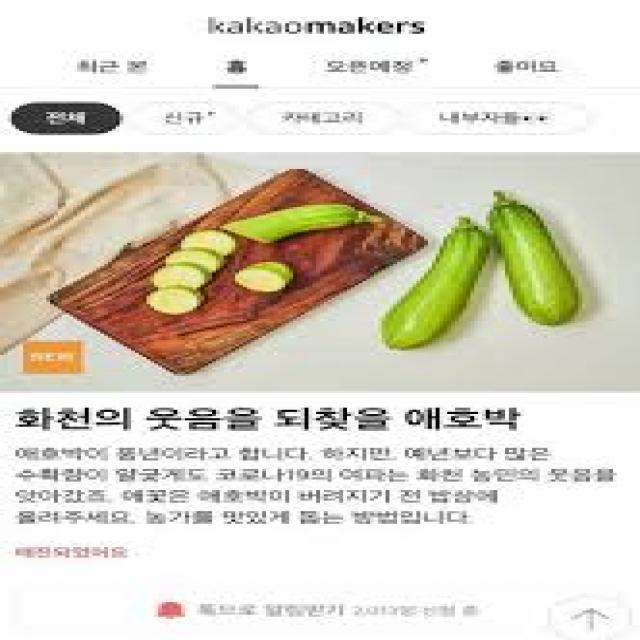Yogurt cup: (382, 218, 490, 350), (490, 192, 582, 325)
